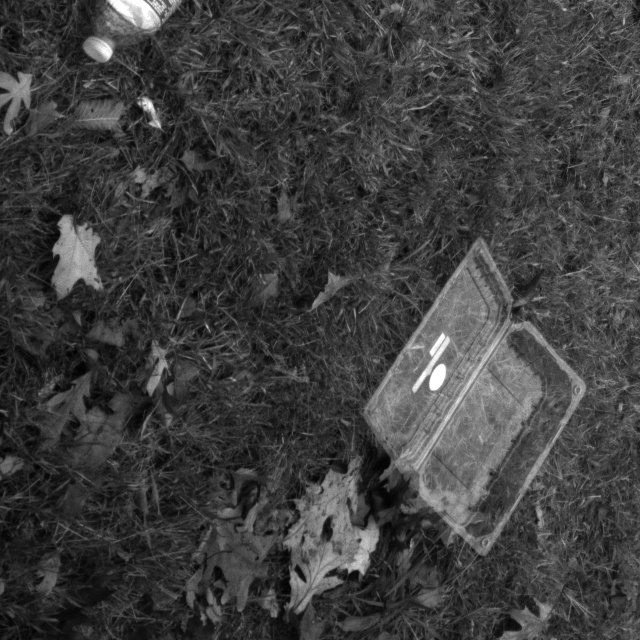bottle: (346, 235, 583, 565), (65, 0, 242, 68)
